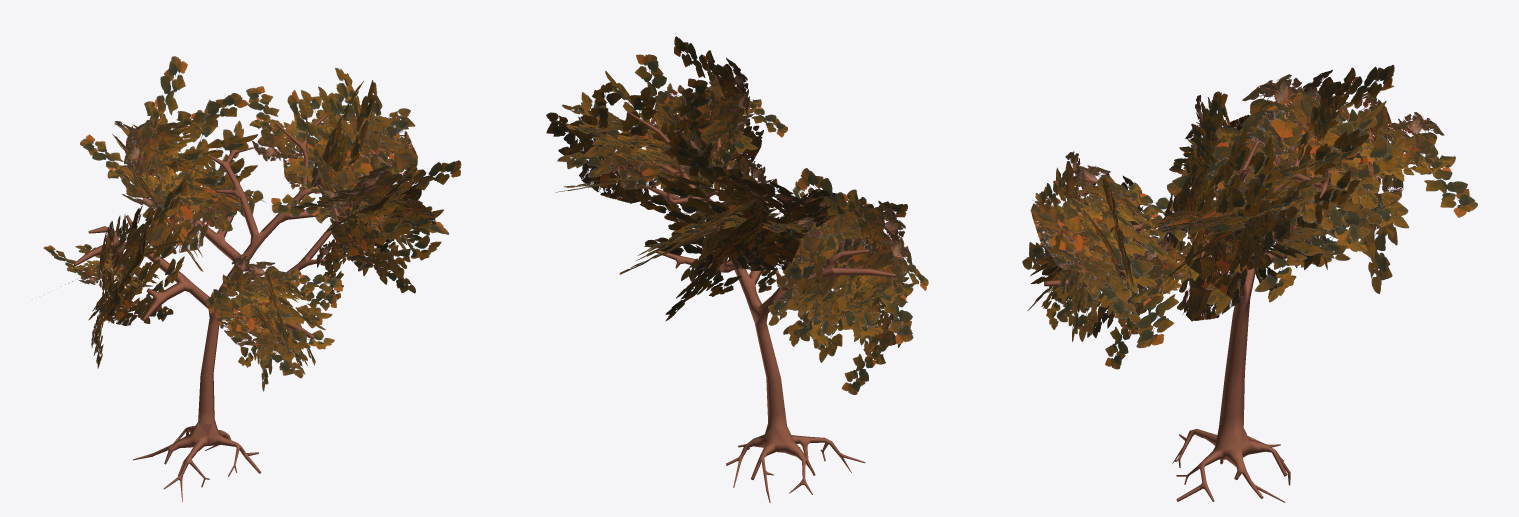
File: Tree1_leaves.fbx
3 renders of one model, left to right at view 1: azimuth 30°, elevation 25°; view 2: azimuth 150°, elevation 25°; view 3: azimuth 270°, elevation 25°, orthographic. The views are drawn at different scales.
Visible parts, largest first — view 1: Tree, Plane, Plane.010, Plane.023, Plane.029, Plane.005, Plane.002, Plane.003, Plane.024, Plane.021, Plane.027, Plane.022 (+12 smaller); view 2: Tree, Plane, Plane.008, Plane.024, Plane.022, Plane.009, Plane.004, Plane.002, Plane.005, Plane.006, Plane.010, Plane.013 (+10 smaller); view 3: Plane.001, Plane.024, Plane.014, Tree, Plane.020, Plane.004, Plane, Plane.012, Plane.023, Plane.003, Plane.028, Plane.022 (+8 smaller).
Boxes of the visible parts, left/top/right/bottom form: Tree: left=74, top=114, right=363, bottom=502; Plane: left=124, top=56, right=263, bottom=253; Plane.010: left=330, top=160, right=461, bottom=293; Plane.023: left=246, top=84, right=415, bottom=188; Plane.029: left=212, top=261, right=342, bottom=378; Plane.005: left=97, top=178, right=187, bottom=325; Plane.002: left=120, top=93, right=258, bottom=225; Plane.003: left=80, top=127, right=245, bottom=216; Plane.024: left=287, top=68, right=382, bottom=212; Plane.021: left=271, top=92, right=418, bottom=223; Plane.027: left=253, top=278, right=336, bottom=374; Plane.022: left=311, top=80, right=376, bottom=200; Tree: left=628, top=112, right=895, bottom=502; Plane: left=634, top=146, right=808, bottom=270; Plane.008: left=776, top=238, right=902, bottom=394; Plane.024: left=546, top=78, right=711, bottom=203; Plane.022: left=557, top=54, right=703, bottom=189; Plane.009: left=768, top=214, right=913, bottom=346; Plane.004: left=665, top=190, right=831, bottom=321; Plane.002: left=662, top=134, right=780, bottom=281; Plane.005: left=783, top=168, right=915, bottom=338; Plane.006: left=792, top=216, right=928, bottom=348; Plane.010: left=674, top=36, right=763, bottom=189; Plane.013: left=656, top=92, right=766, bottom=212; Plane.001: left=1244, top=91, right=1477, bottom=252; Plane.024: left=1164, top=91, right=1297, bottom=321; Plane.014: left=1030, top=165, right=1181, bottom=324; Tree: left=1044, top=141, right=1330, bottom=502; Plane.020: left=1131, top=197, right=1350, bottom=348; Plane.004: left=1167, top=74, right=1403, bottom=293; Plane: left=1264, top=65, right=1394, bottom=269; Plane.012: left=1066, top=193, right=1197, bottom=316; Plane.023: left=1155, top=148, right=1359, bottom=235; Plane.003: left=1224, top=85, right=1403, bottom=229; Plane.028: left=1022, top=223, right=1152, bottom=369; Plane.022: left=1191, top=123, right=1302, bottom=259.
Bounding box in the file's own units: 1808 × 1709 × 1670.
